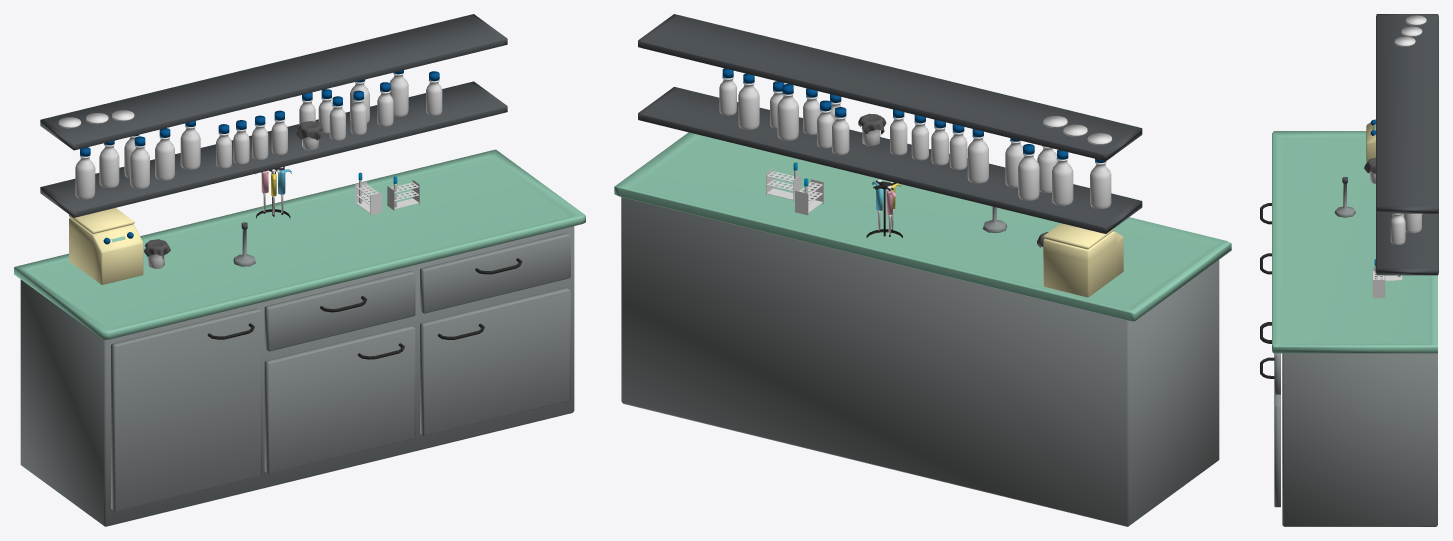
File: desk2.glb
3 renders of one model, left to right at view 1: azimuth 30°, elevation 25°; view 2: azimuth 150°, elevation 25°; view 3: azimuth 270°, elevation 25°, orthographic. The views are drawn at different scales.
Visible parts, largest first — view 1: Torus.000, Torus.004, Torus.002, Cube, Torus.006, inhalt, inhalt.005, inhalt.002, inhalt.004, Icosphere.002, inhalt.001, inhalt.007 (+1 smaller); view 2: Torus.000, Torus.004, Torus.002, Cube, inhalt.006, inhalt.003, inhalt.007, inhalt.001, Icosphere.002, inhalt.004, inhalt, Plane.000 (+7 smaller); view 3: Torus.000, Torus.004, Torus.002, Torus.006, inhalt_klein.001, Cube, Plane.004, inhalt.007, Circle.013.
Boxes of the visible parts, <box> form: Torus.000: <box>20,226,574,526</box>; Torus.004: <box>14,149,585,339</box>; Torus.002: <box>40,14,507,217</box>; Cube: <box>69,208,143,284</box>; Torus.006: <box>207,258,521,359</box>; inhalt: <box>75,147,95,199</box>; inhalt.005: <box>155,128,174,180</box>; inhalt.002: <box>130,136,149,189</box>; inhalt.004: <box>180,121,200,169</box>; Icosphere.002: <box>255,166,291,218</box>; inhalt.001: <box>99,140,119,188</box>; inhalt.007: <box>389,70,408,116</box>; Torus.000: <box>621,197,1219,526</box>; Torus.004: <box>614,132,1231,321</box>; Torus.002: <box>638,14,1142,233</box>; Cube: <box>1043,223,1123,297</box>; inhalt.006: <box>777,84,798,140</box>; inhalt.003: <box>1018,144,1039,200</box>; inhalt.007: <box>738,73,759,129</box>; inhalt.001: <box>1052,150,1073,205</box>; Icosphere.002: <box>866,179,902,237</box>; inhalt.004: <box>967,129,988,183</box>; inhalt: <box>1090,159,1111,209</box>; Plane.000: <box>795,179,823,215</box>; Torus.000: <box>1274,353,1437,526</box>; Torus.004: <box>1272,131,1437,353</box>; Torus.002: <box>1376,14,1438,275</box>; Torus.006: <box>1260,203,1274,378</box>; inhalt_klein.001: <box>1390,213,1405,244</box>; Cube: <box>1366,119,1375,173</box>; Plane.004: <box>1372,268,1385,298</box>; inhalt.007: <box>1403,213,1421,233</box>; Circle.013: <box>1334,177,1355,217</box>.
Bounding box in the file's own units: 2.62 × 1.78 × 0.9176.
